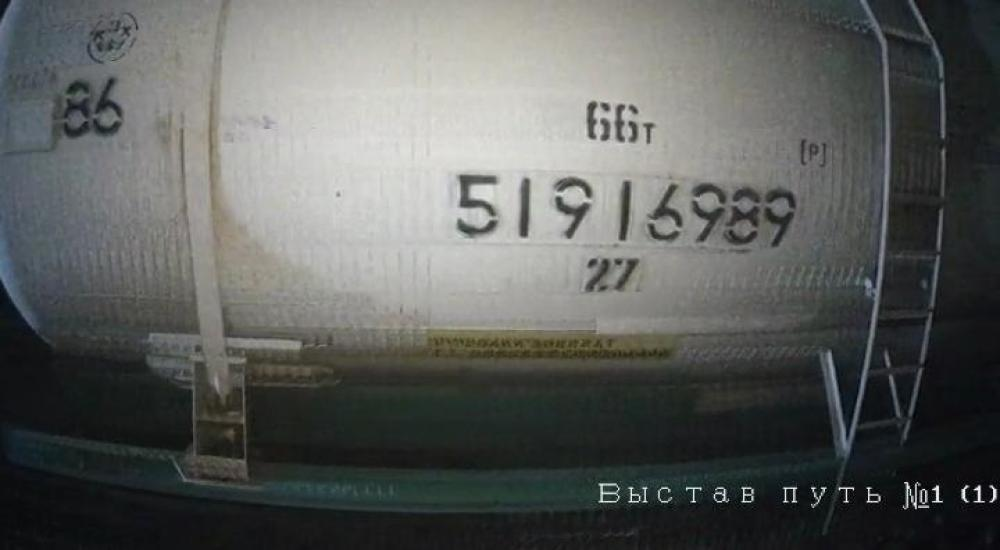Wagon-number: (451, 168, 802, 253)
